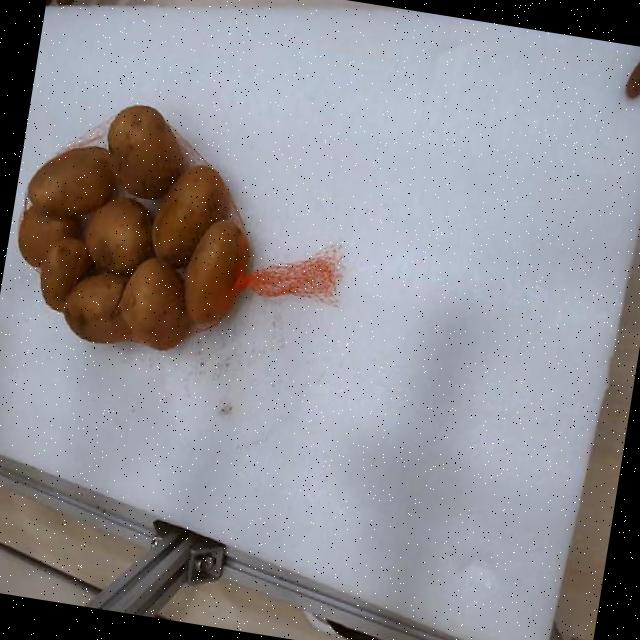potato: (63, 258, 193, 350), (152, 166, 230, 267), (108, 105, 183, 199), (185, 220, 248, 324), (27, 149, 116, 216), (85, 197, 153, 275), (40, 237, 93, 311), (19, 205, 81, 267), (64, 274, 126, 323)
